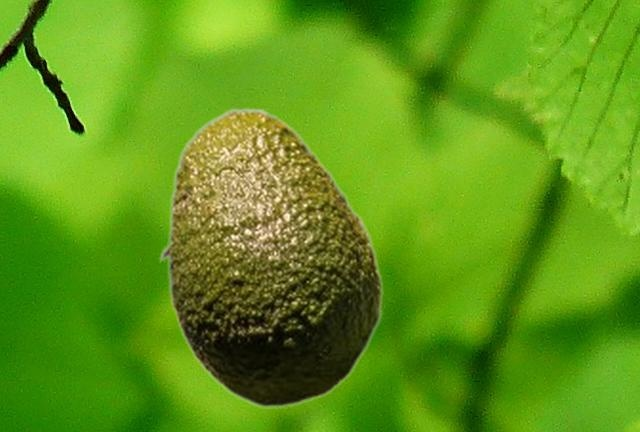avocado: (158, 107, 383, 407)
